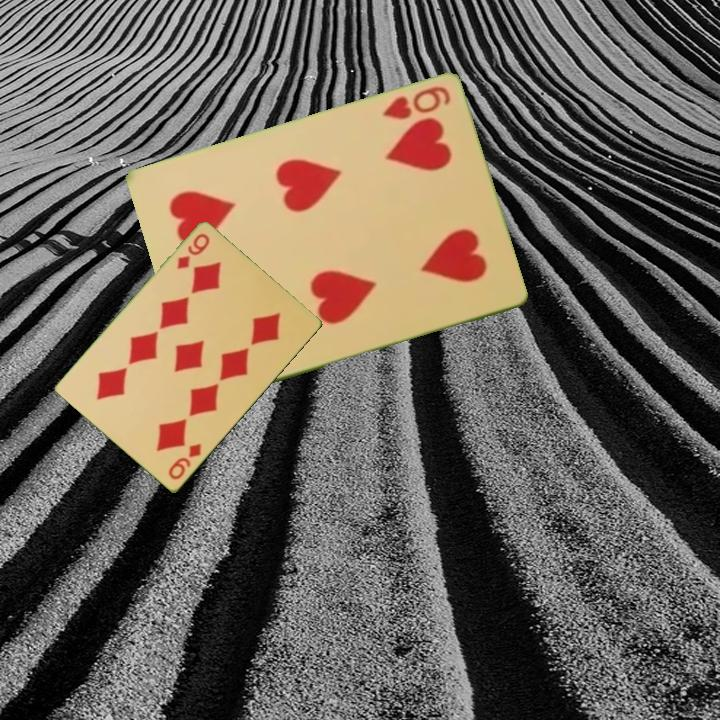6h: (378, 83, 453, 123)
9d: (173, 230, 213, 273), (165, 440, 204, 483)
